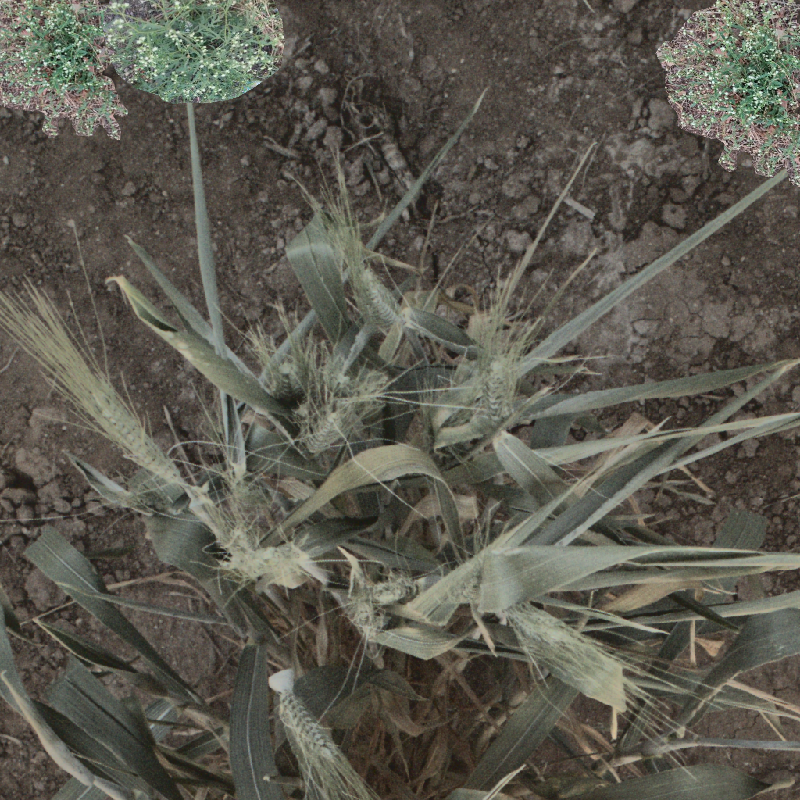spikelet: (85, 378, 183, 485), (273, 686, 338, 769), (234, 540, 321, 590), (475, 344, 520, 423), (350, 264, 404, 327), (301, 405, 348, 455), (344, 592, 385, 640), (364, 571, 416, 606)
weed: (636, 1, 800, 189), (94, 1, 295, 120), (1, 1, 128, 140)
